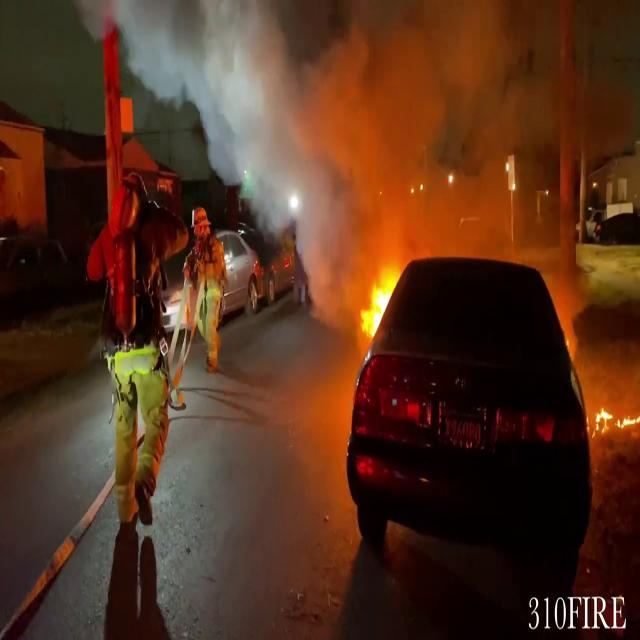Fire: (357, 262, 395, 346)
Smoke: (262, 0, 548, 268)
